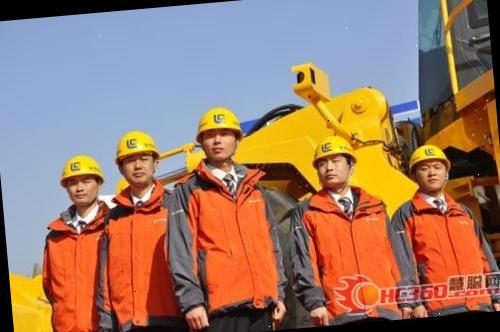helmet: (192, 102, 246, 138), (309, 130, 359, 168), (112, 126, 160, 162), (56, 150, 106, 184), (403, 142, 448, 168)
wear: (175, 174, 278, 317), (298, 189, 392, 318), (40, 202, 127, 332), (104, 202, 182, 329), (398, 199, 485, 312)
